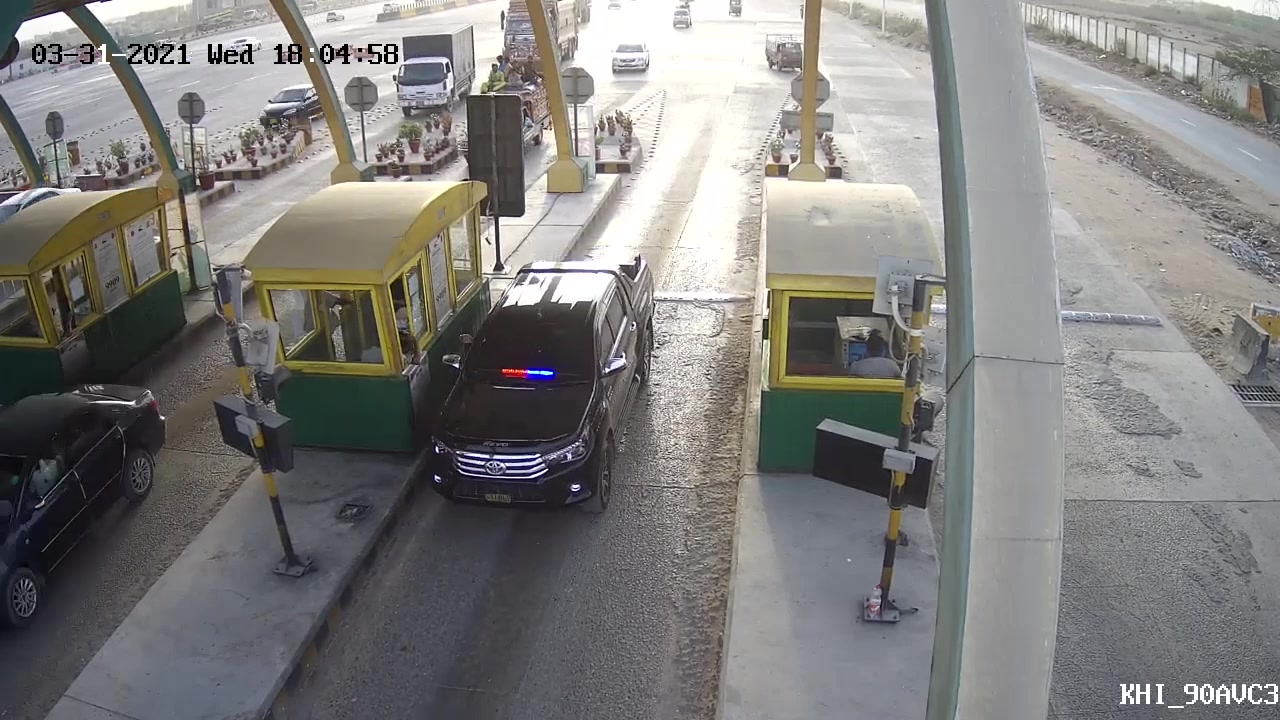F1: (417, 243, 667, 523)
